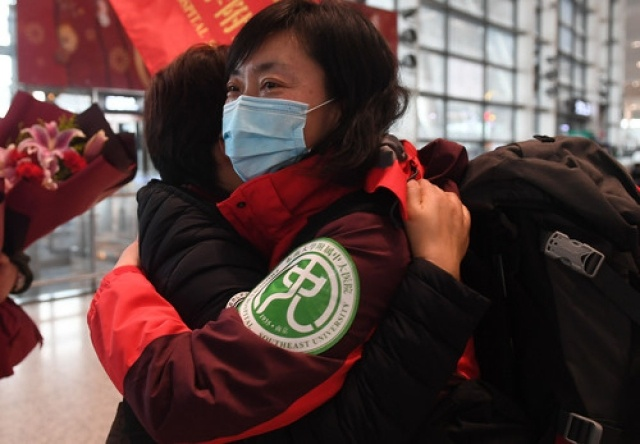correctlyWear: (222, 52, 342, 182)
